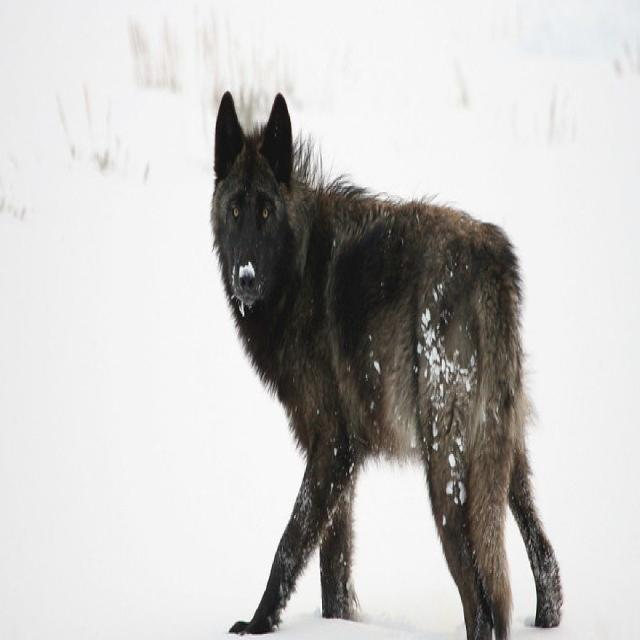Wolf: (209, 88, 563, 638)
